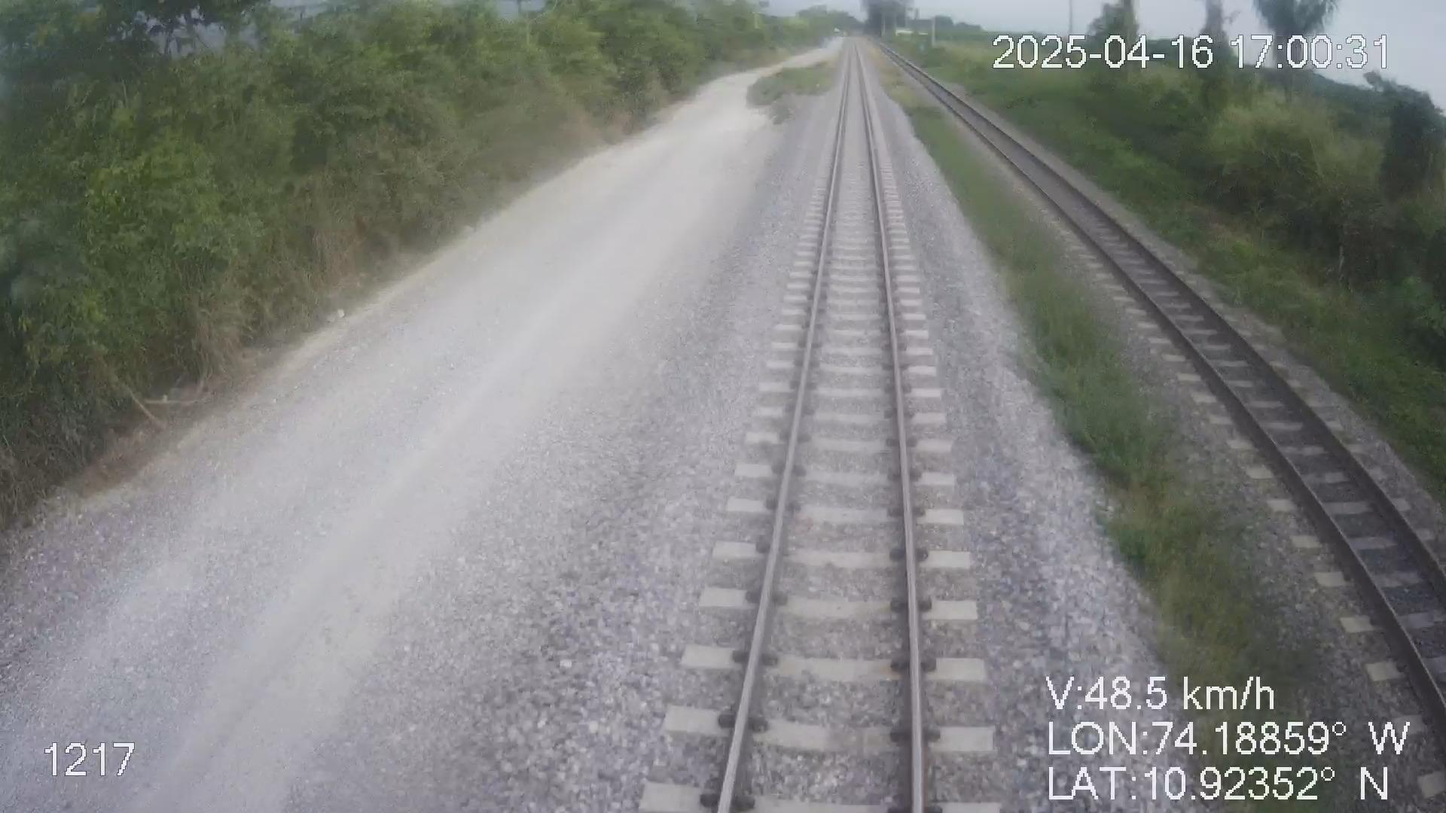Pasto: (0, 0, 844, 527), (893, 25, 1445, 533)
